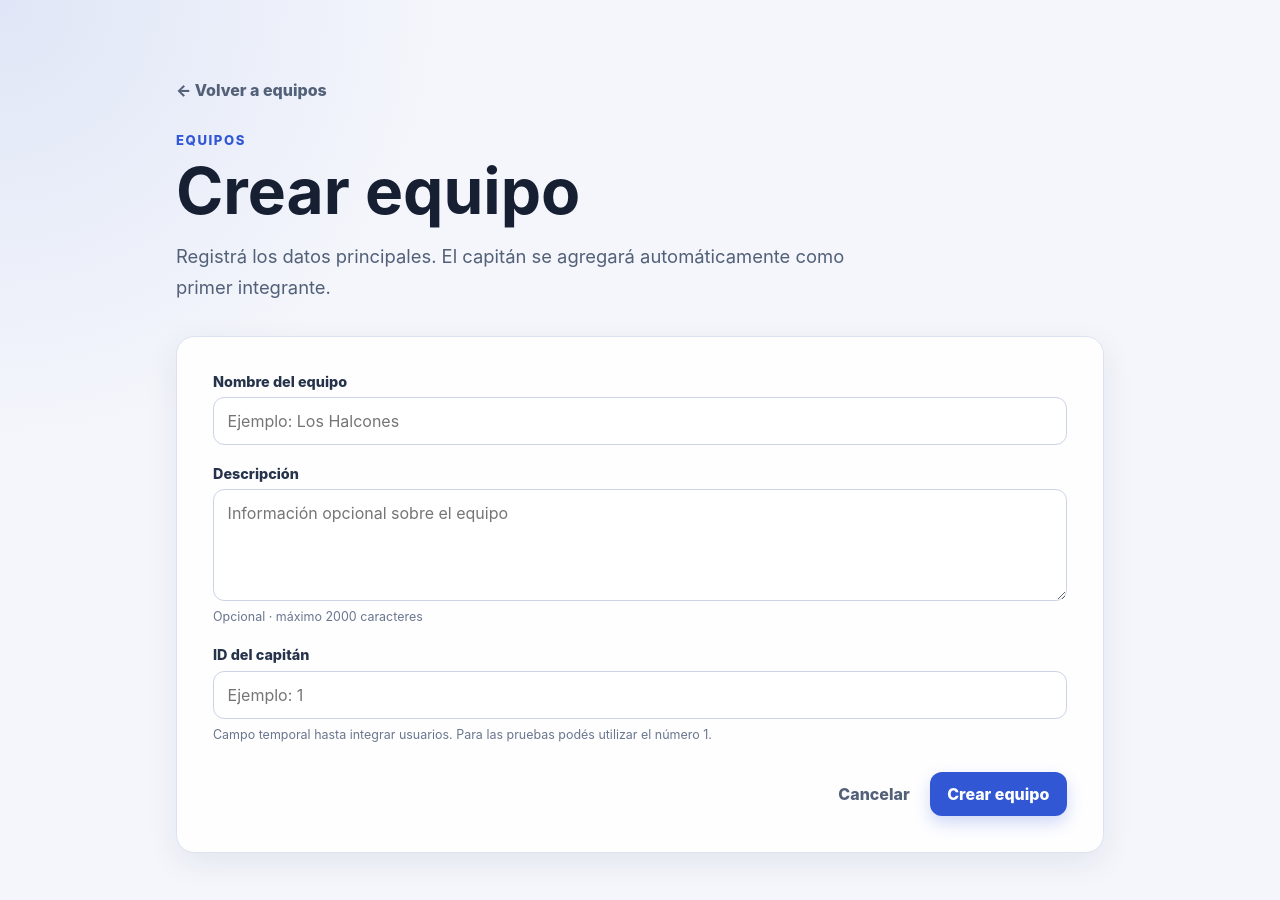
Test case: pantallas principales de equipos › crea un equipo y registra automáticamente al capitán
Type "Los Halcones" into the field labelled "Nombre del equipo". click: {"x": 640, "y": 421}
box: x1=213 y1=397 x2=1067 y2=445
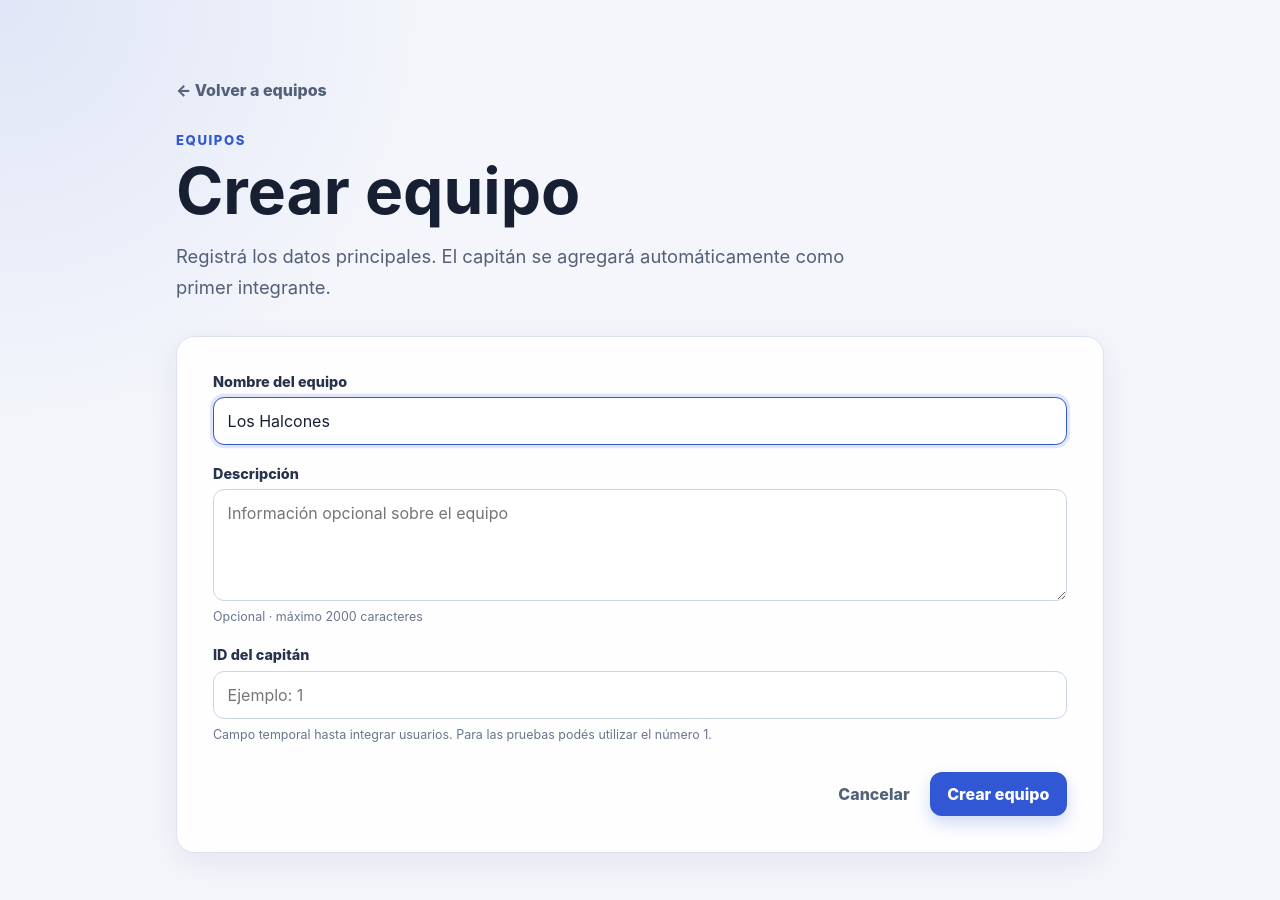
Type "Equipo de prueba" into the text box labelled "Descripción". click: {"x": 640, "y": 545}
box: x1=213 y1=489 x2=1067 y2=601
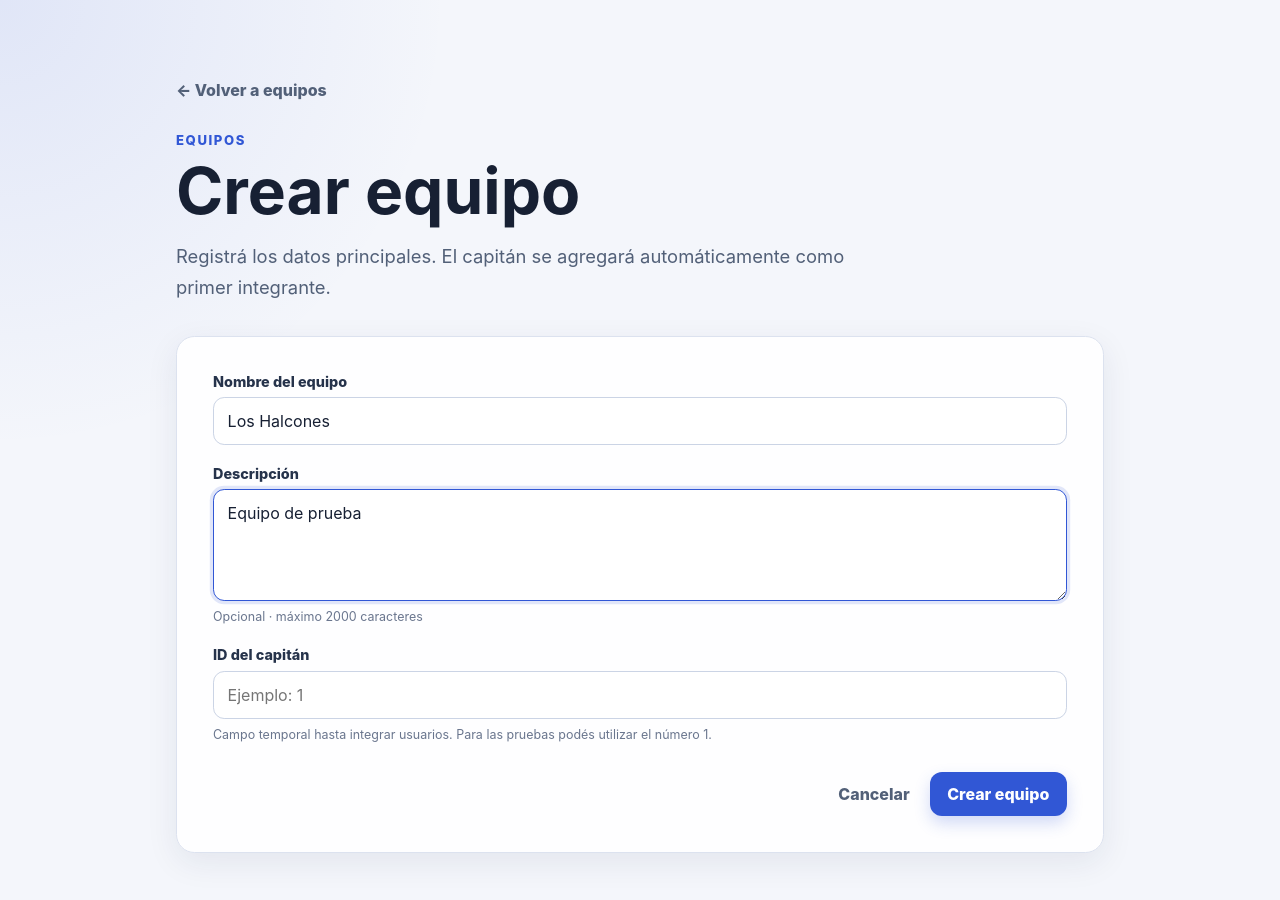
Type "1" into the number field labelled "ID del capitán". click: {"x": 640, "y": 694}
box: x1=213 y1=670 x2=1067 y2=718
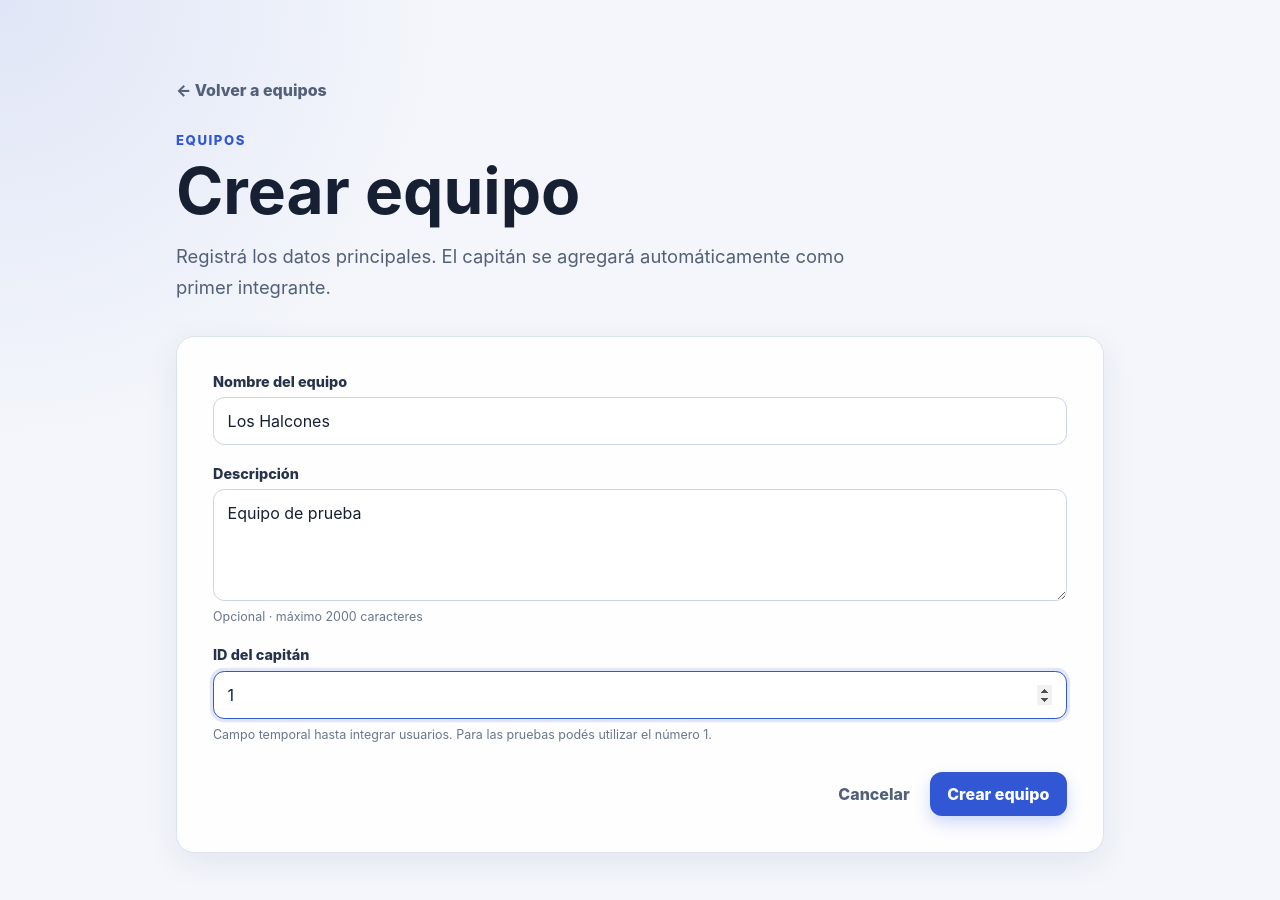
Click the button "Crear equipo". click: {"x": 998, "y": 794}
box: x1=930 y1=772 x2=1067 y2=816
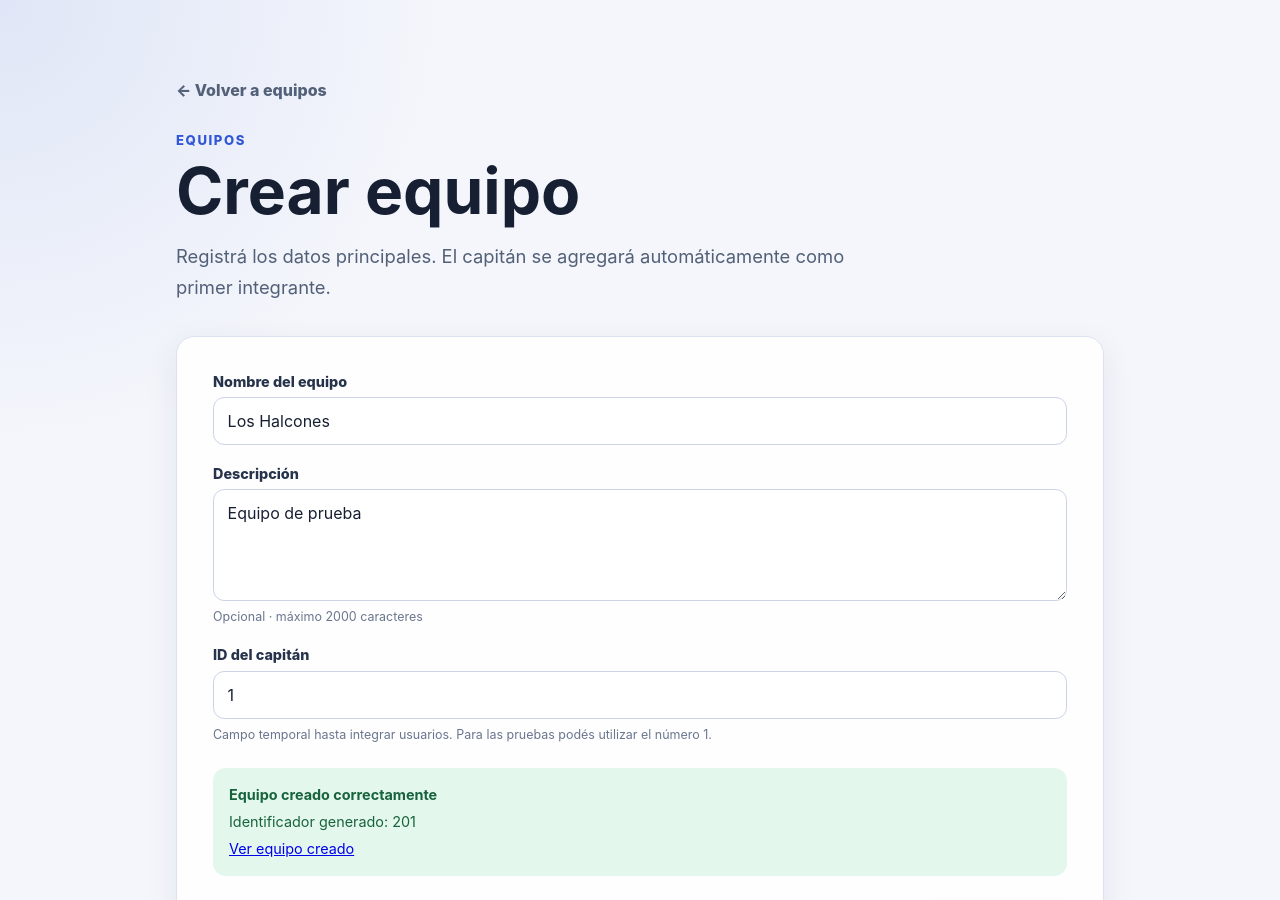
Check: the text "Equipo creado correctamente" is shown, box x1=229 y1=786 x2=437 y2=803
